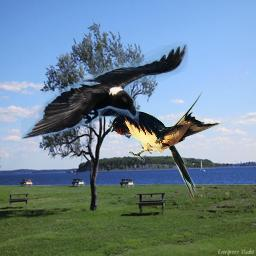Crow: (21, 42, 188, 139)
Swallow: (41, 89, 253, 200)
